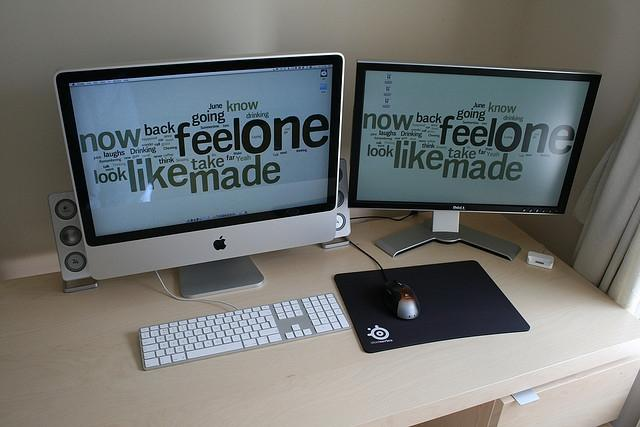apple: (214, 235, 226, 250)
